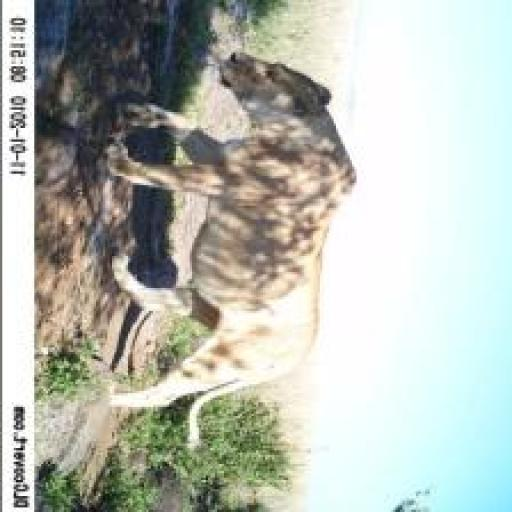lion: (78, 44, 372, 458)
